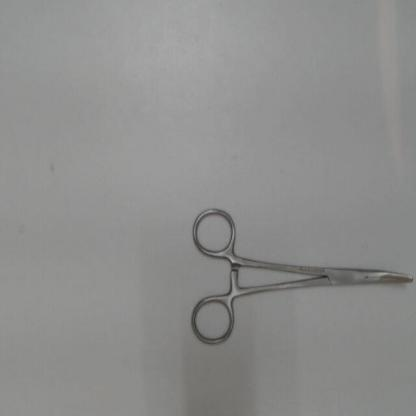Crile Artery Forceps: (183, 196, 414, 351)
